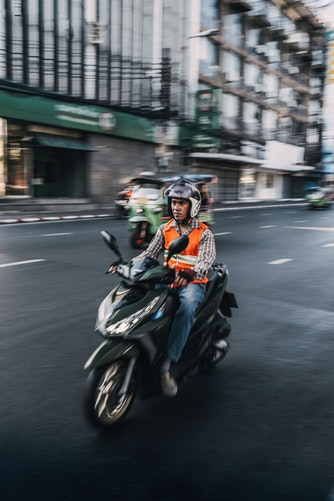helmet: (163, 169, 207, 222)
